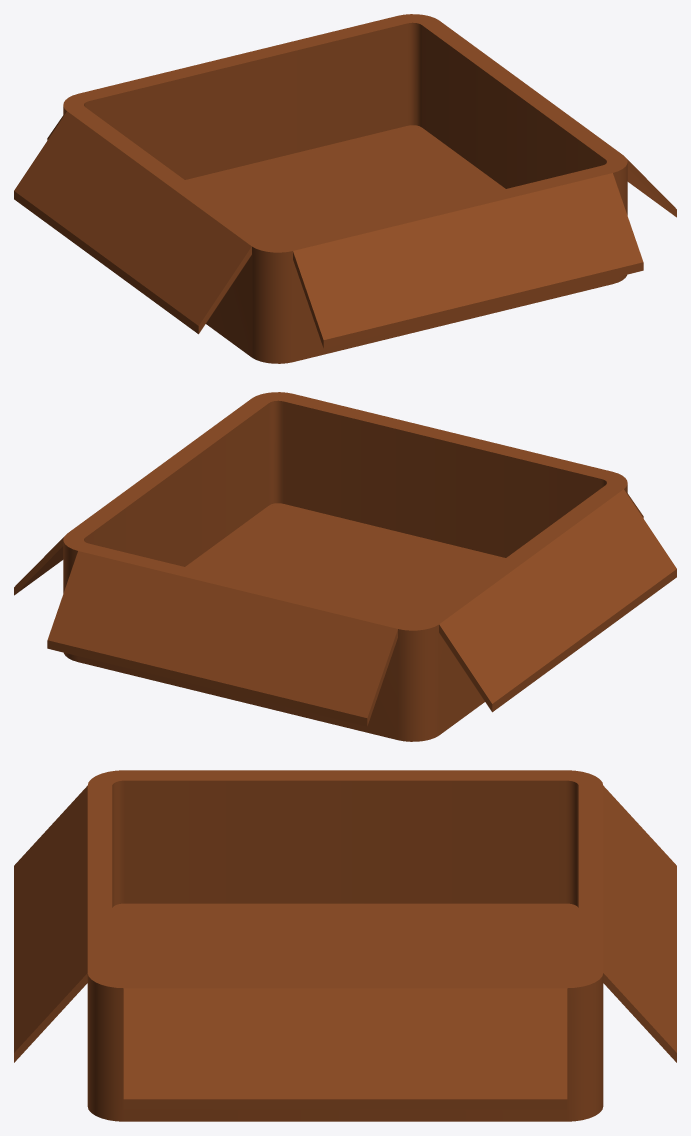
3 renders of one model, top to bottom at view 1: azimuth 30°, elevation 25°; view 2: azimuth 150°, elevation 25°; view 3: azimuth 270°, elevation 25°, orthographic. The views are drawn at different scales.
Visible parts, largest first — view 1: Rectangle001; view 2: Rectangle001; view 3: Rectangle001.
Boxes of the visible parts, left/top/right/bottom form: Rectangle001: left=14, top=14, right=676, bottom=363; Rectangle001: left=14, top=392, right=676, bottom=741; Rectangle001: left=14, top=770, right=676, bottom=1121.
Bounding box in the file's own units: 27 × 6 × 27.
